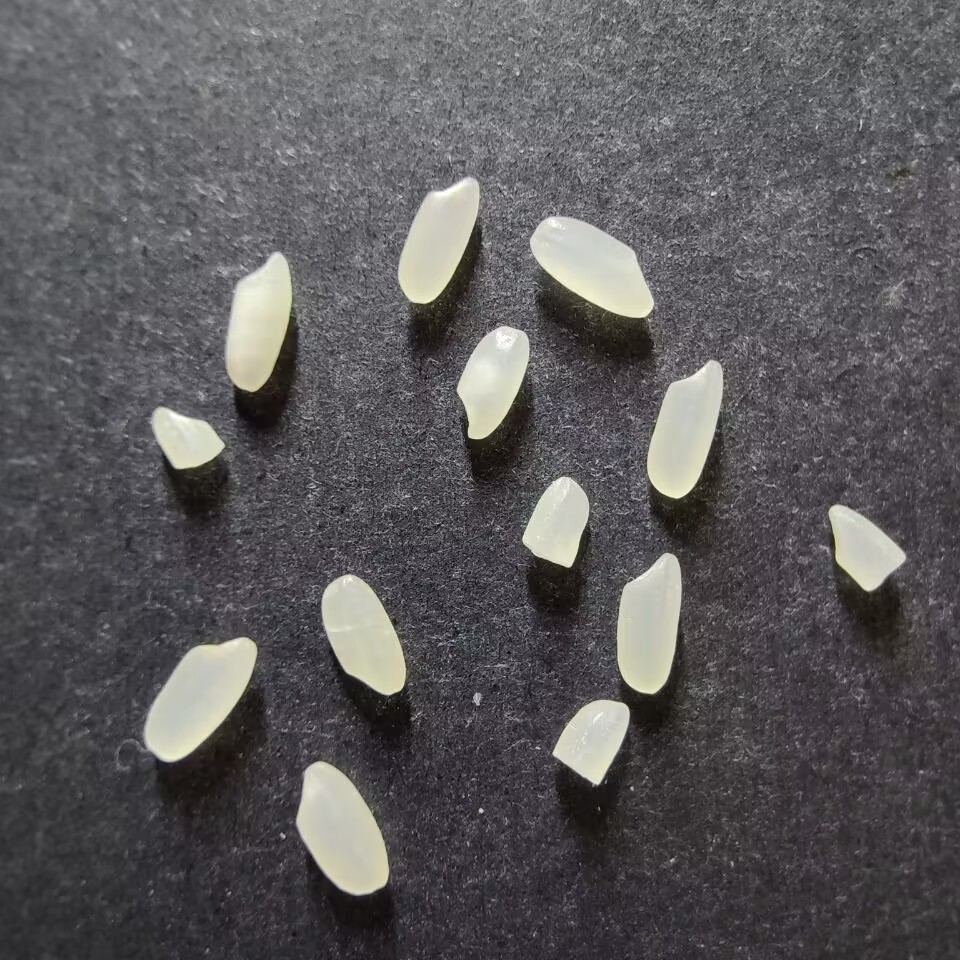broken: (827, 504, 906, 591), (551, 699, 630, 784), (522, 476, 589, 568), (151, 407, 225, 470)
rice: (144, 637, 257, 761), (530, 215, 654, 318), (295, 761, 389, 895), (646, 359, 723, 498), (397, 177, 480, 304), (320, 574, 405, 695), (615, 552, 682, 694), (224, 251, 291, 392), (455, 325, 530, 440)
